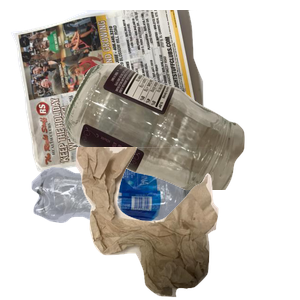glass: (62, 60, 300, 240)
paper: (10, 10, 210, 175)
plastic: (29, 165, 227, 300)
trash: (73, 147, 300, 300)
